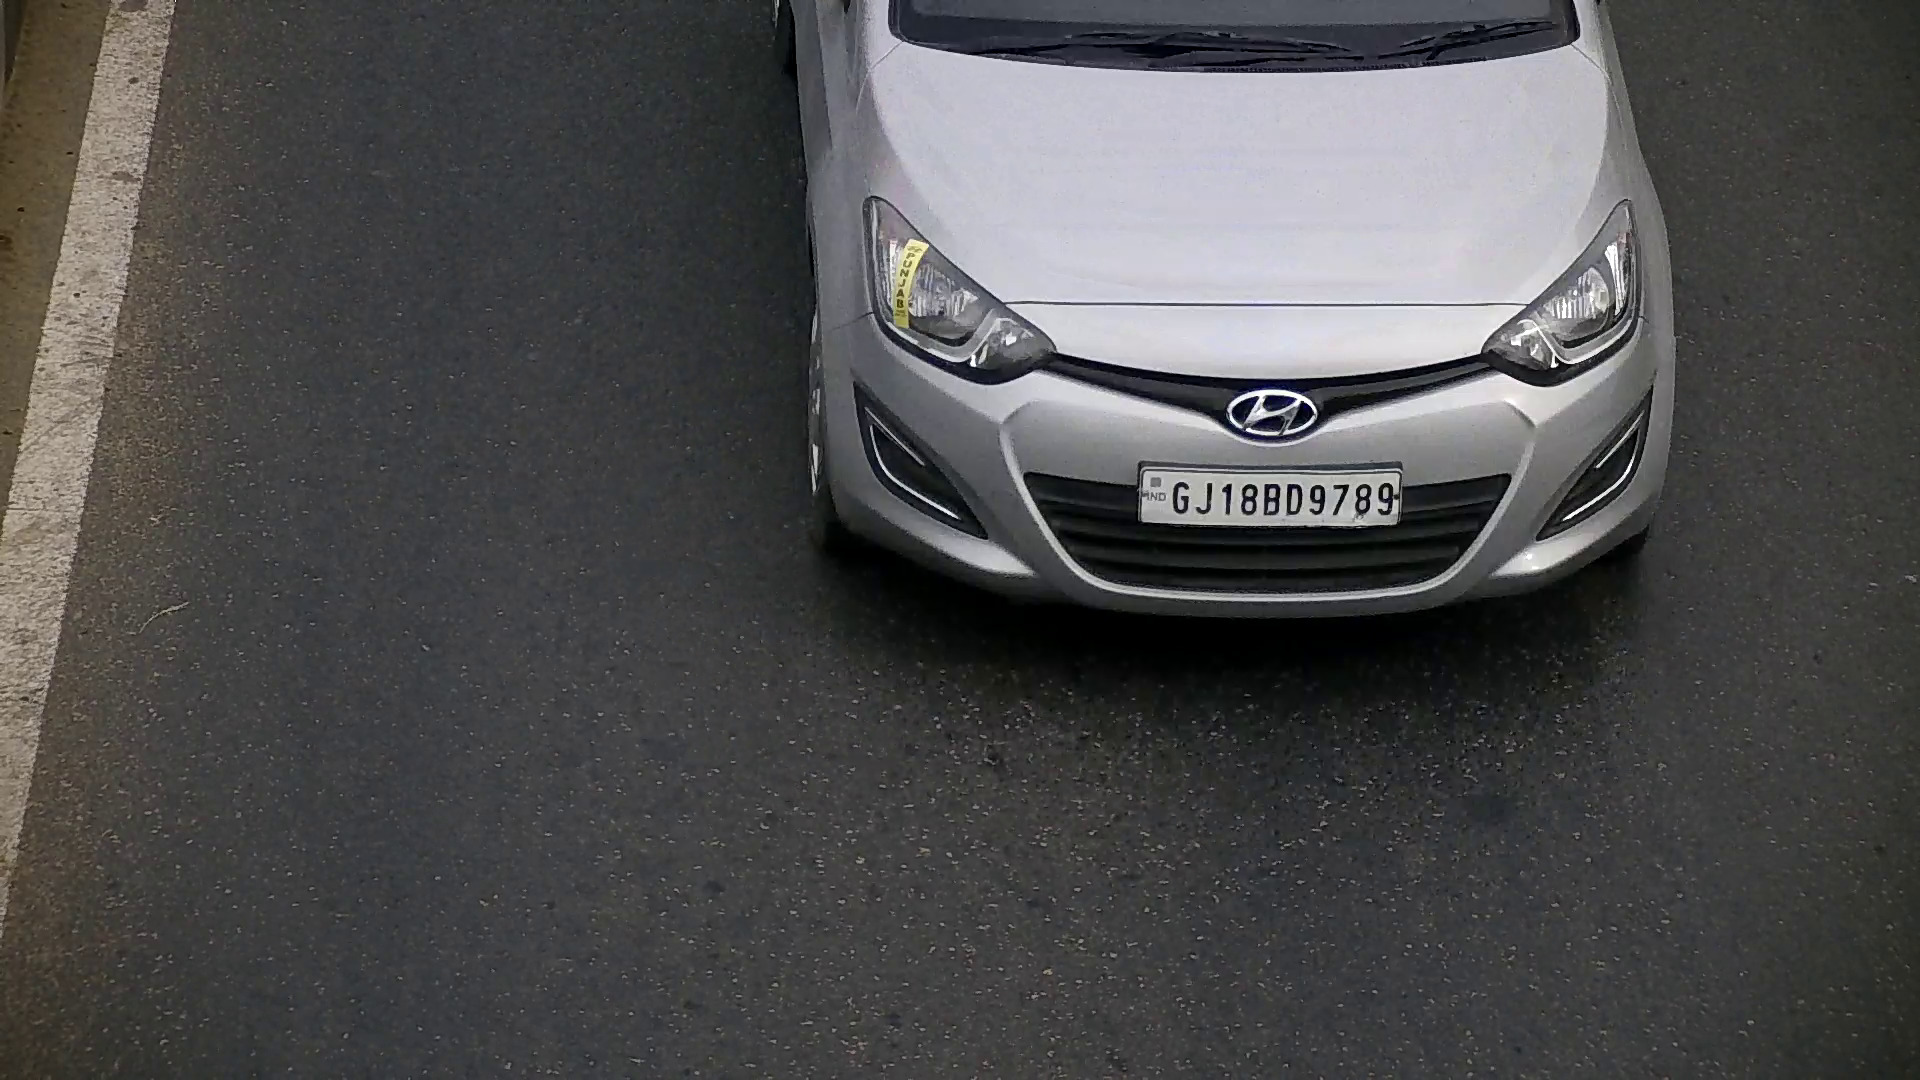numberplate: (1138, 464, 1406, 529)
